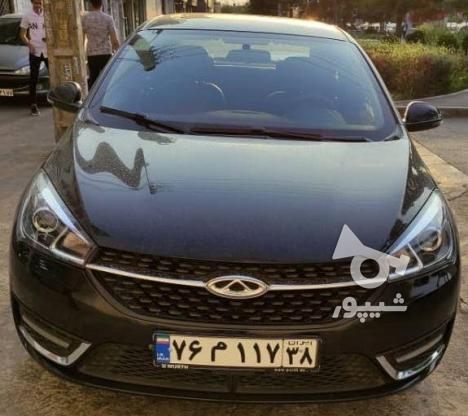car: (154, 331, 322, 373), (1, 86, 14, 96)
